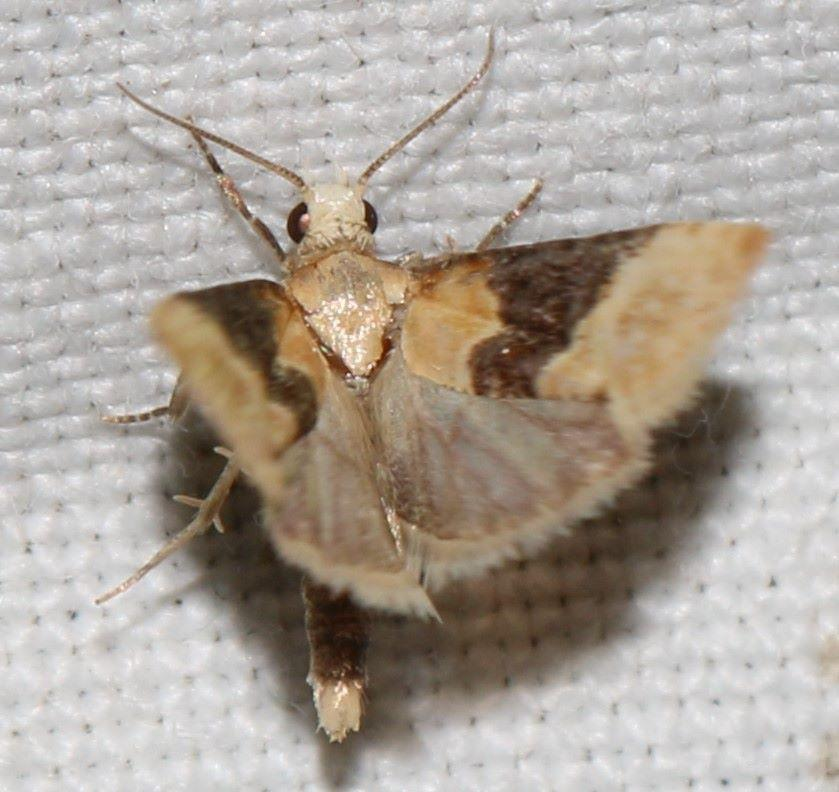Eupoecilia Ambiguella: (92, 24, 774, 744)
